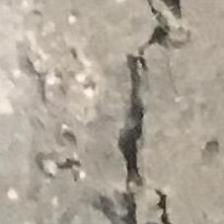Crack: (85, 0, 224, 224)
